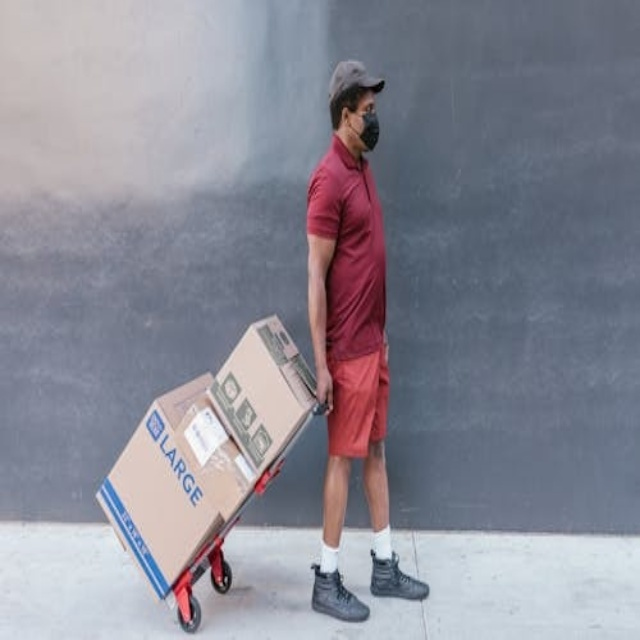Mascara: (353, 108, 380, 151)
Sin_guantes: (314, 363, 334, 419)
